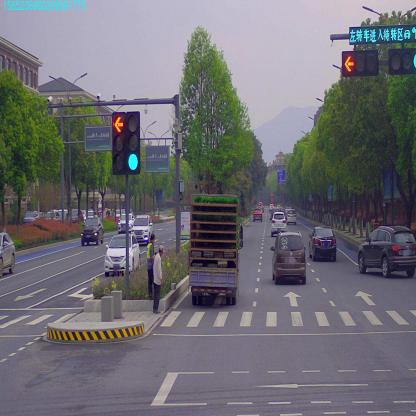traffic-light: (348, 25, 414, 39), (341, 53, 376, 75), (389, 48, 415, 72)
